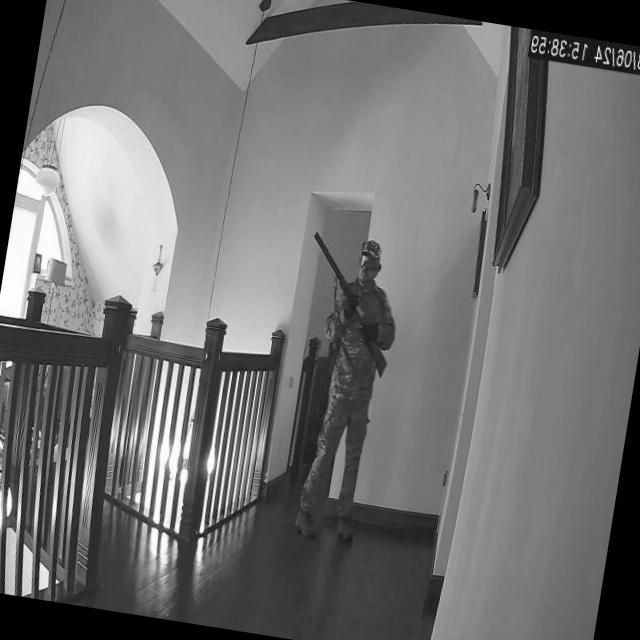gun: (290, 230, 405, 369)
person with a gun: (258, 226, 412, 548)
